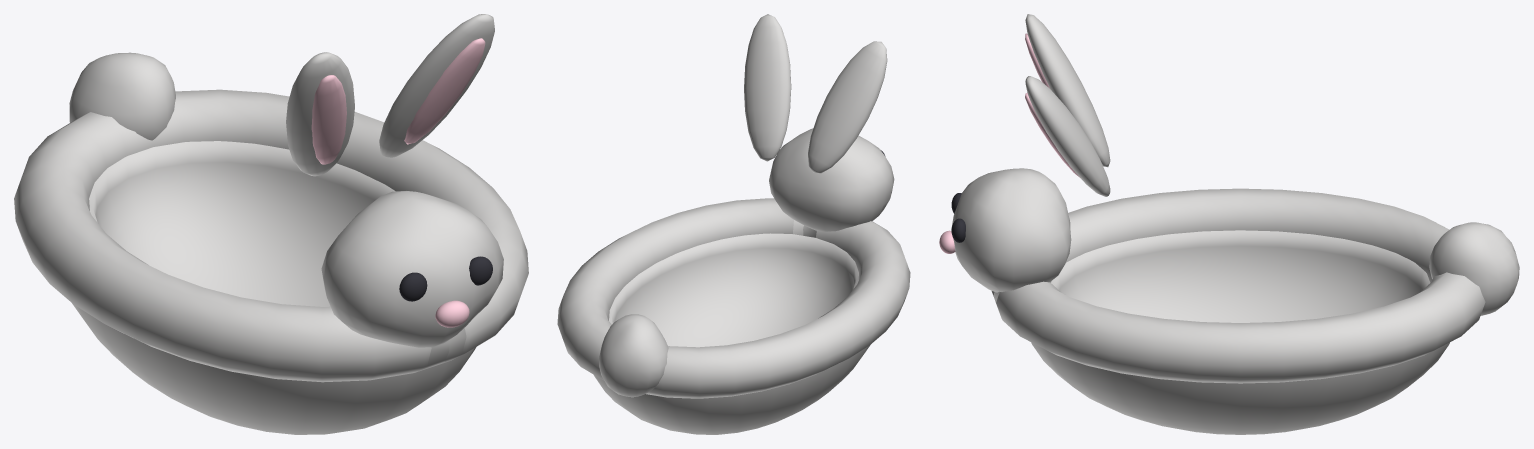
Rendered from Slipper_L.fbx.
3 views of the same model, side by side, from view 1: azimuth 30°, elevation 25°; view 2: azimuth 150°, elevation 25°; view 3: azimuth 270°, elevation 25° (orthographic). The views are drawn at different scales.
Visible parts, largest first — view 1: Slipper_L; view 2: Slipper_L; view 3: Slipper_L.
Part boxes in pixels (x1=…): Slipper_L: x1=14, y1=14, x2=528, y2=434; Slipper_L: x1=557, y1=14, x2=910, y2=434; Slipper_L: x1=939, y1=14, x2=1519, y2=434.
Bounding box in the file's own units: 0.336 × 0.359 × 0.5143.
